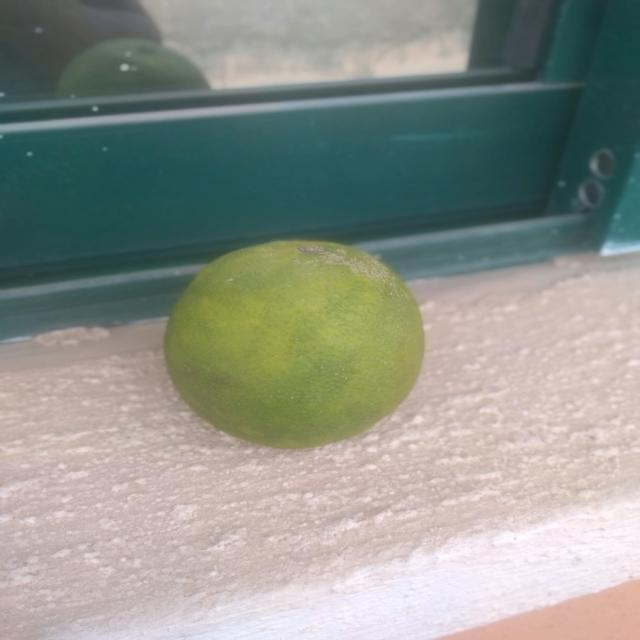Unripe: (149, 225, 458, 482)
